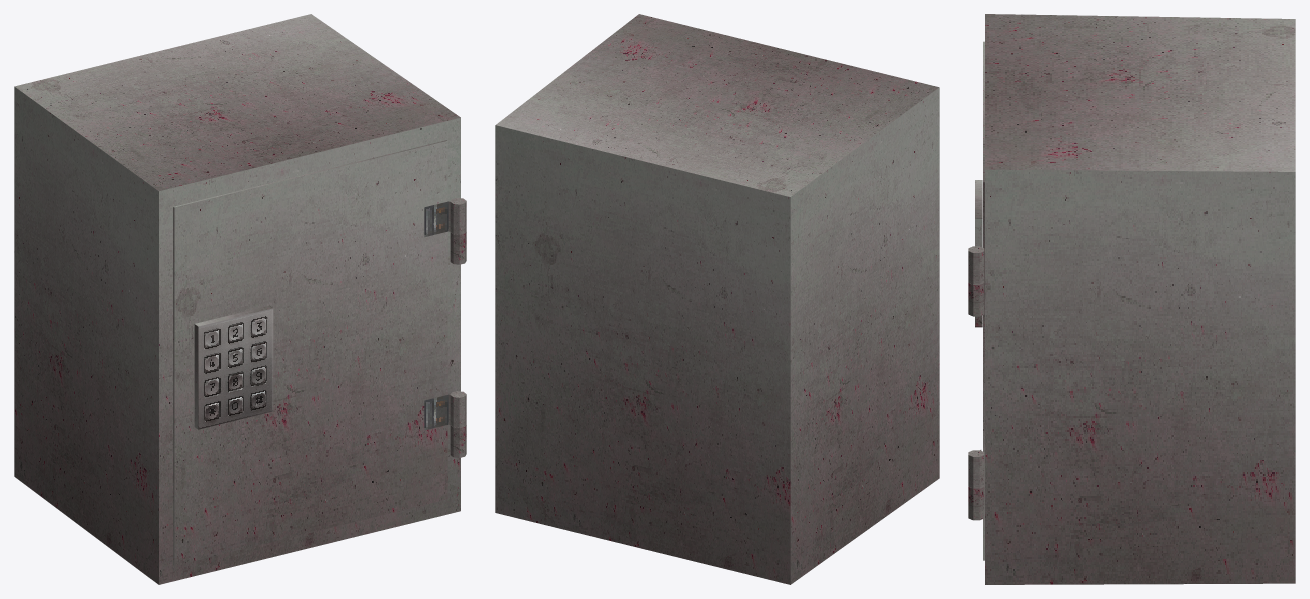
The model's file is safe.glb.
The picture shows the model from 3 angles, left to right: view 1: azimuth 30°, elevation 25°; view 2: azimuth 150°, elevation 25°; view 3: azimuth 270°, elevation 25°; orthographic projection. The views are drawn at different scales.
Visible parts, largest first — view 1: safe_body, Door, keypad; view 2: safe_body; view 3: safe_body, Door, keypad.
Part boxes in pixels (x1,y1,x2,y2): safe_body: (14,14,460,584); Door: (173,140,466,565); keypad: (194,305,273,429); safe_body: (495,14,939,584); safe_body: (985,14,1295,584); Door: (968,41,984,560); keypad: (975,180,982,327).
Bounding box in the file's own units: 1.76 × 2.2 × 1.57.
Materials: 3 (3 with a texture image).
